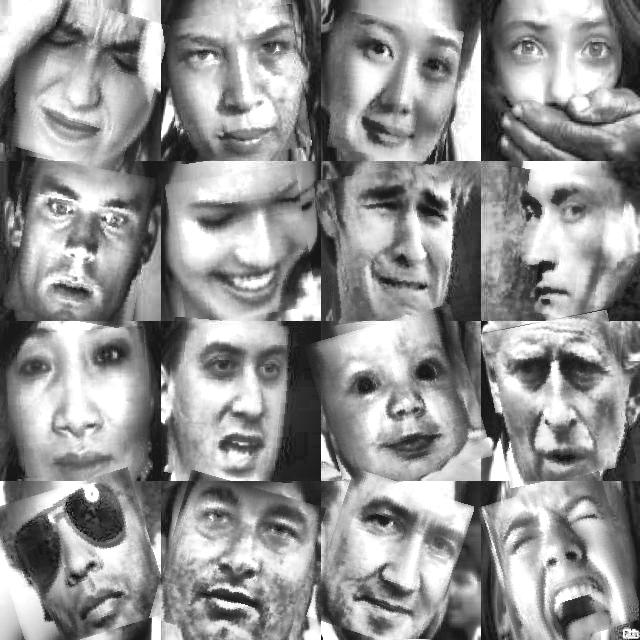angry: (0, 0, 161, 168), (487, 315, 630, 483), (487, 478, 634, 640), (166, 8, 308, 160)
fear: (5, 161, 151, 325), (505, 9, 621, 150)
happy: (314, 313, 483, 489), (158, 478, 317, 640), (316, 476, 464, 640), (165, 320, 303, 480), (170, 168, 312, 320), (7, 329, 151, 477), (331, 15, 458, 162)
neutral: (0, 476, 161, 640), (499, 171, 623, 319)
sad: (318, 166, 474, 320)
